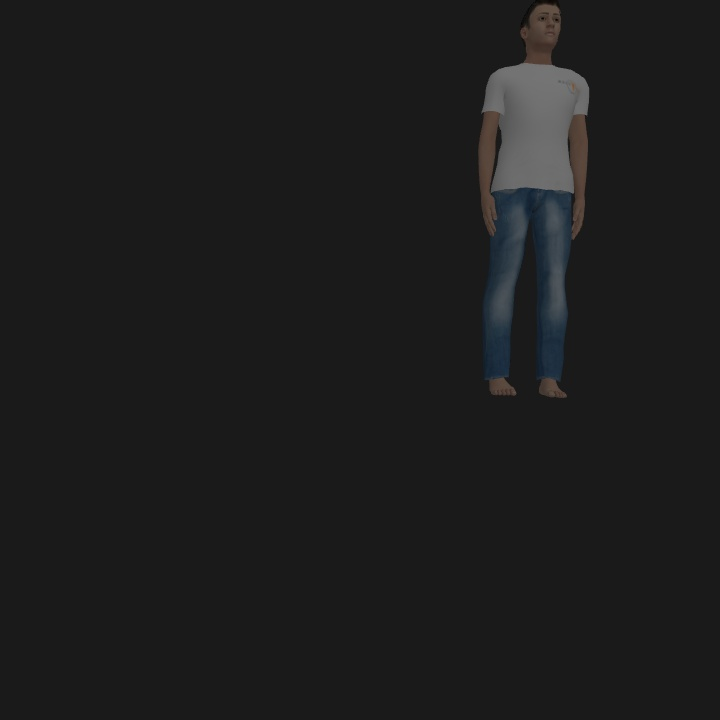victim: (481, 4, 589, 400)
